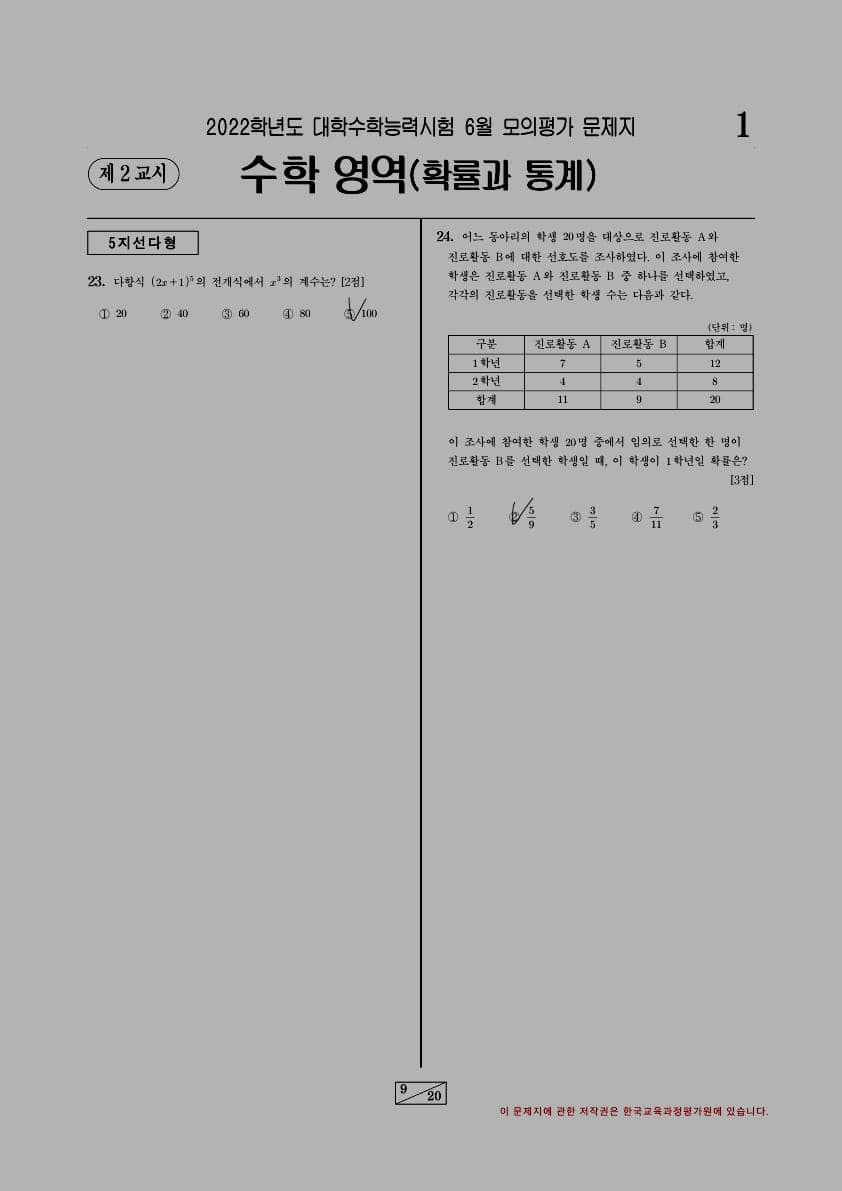question: (424, 222, 767, 558), (72, 266, 395, 338)
